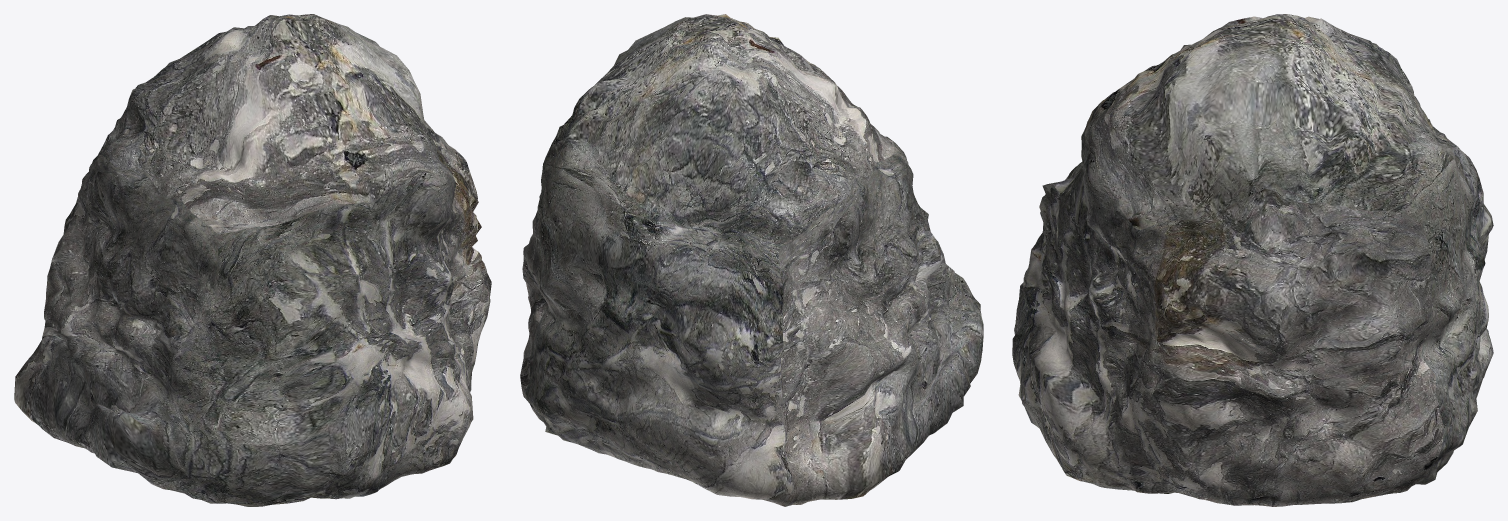
Rendered from stone_3.fbx.
3 renders of one model, left to right at view 1: azimuth 30°, elevation 25°; view 2: azimuth 150°, elevation 25°; view 3: azimuth 270°, elevation 25°, orthographic. The views are drawn at different scales.
Parts seen in each view (by area): view 1: cube1; view 2: cube1; view 3: cube1.
Boxes of the visible parts, x1,y1,x2,y2 form: cube1: [14, 14, 491, 506]; cube1: [520, 14, 983, 506]; cube1: [1012, 14, 1493, 506].
Size of the model in its own units: 244 by 237 by 241.
